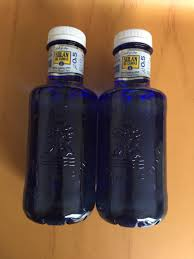solan de cabras: (97, 19, 176, 235), (19, 22, 95, 228)
